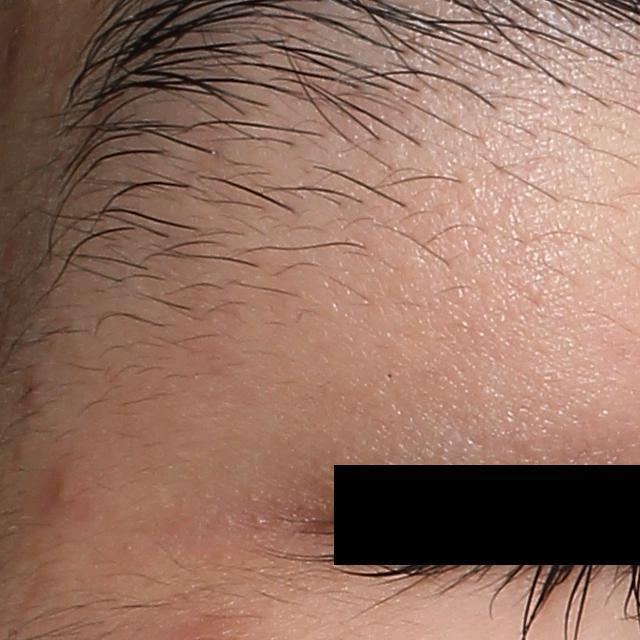papule: (51, 476, 73, 507)
